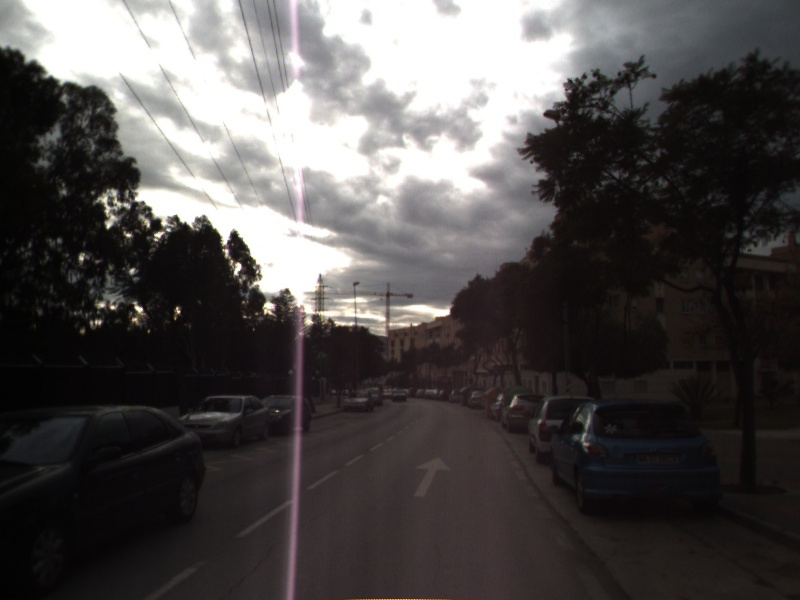STRAIGHT: (410, 453, 455, 499)
